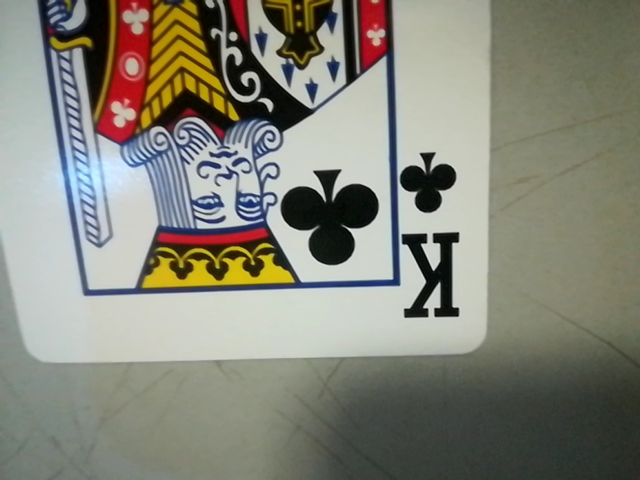mh k: (388, 137, 480, 334)
